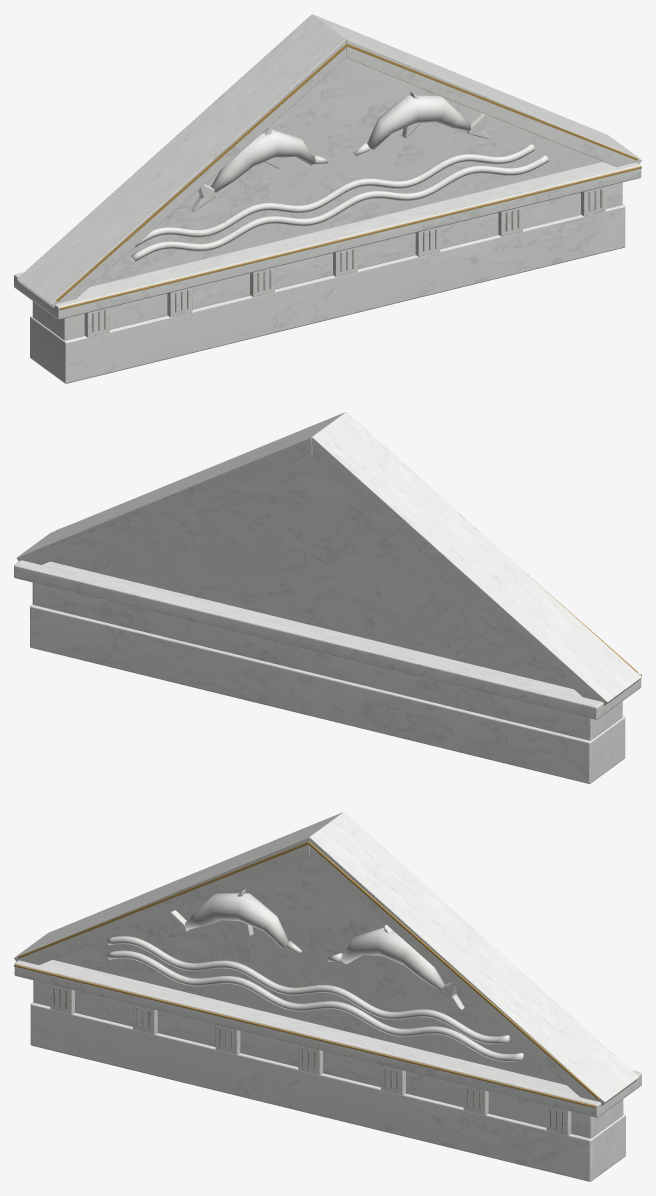
The model's file is pediment.glb.
The picture shows the model from 3 angles, top to bottom: view 1: azimuth 30°, elevation 25°; view 2: azimuth 150°, elevation 25°; view 3: azimuth 330°, elevation 25°; orthographic projection.
Visible parts, largest first — view 1: 05 Pediment; view 2: 05 Pediment; view 3: 05 Pediment.
Part boxes in pixels (x1,y1,x2,y2): 05 Pediment: (14,14,641,383); 05 Pediment: (14,412,641,783); 05 Pediment: (14,812,641,1181).
Size of the model in its own units: 6.43 by 2.89 by 0.869.
Materials: 3 (3 with a texture image).
